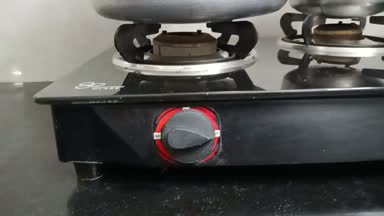flame_gas_off: (89, 3, 277, 168)
